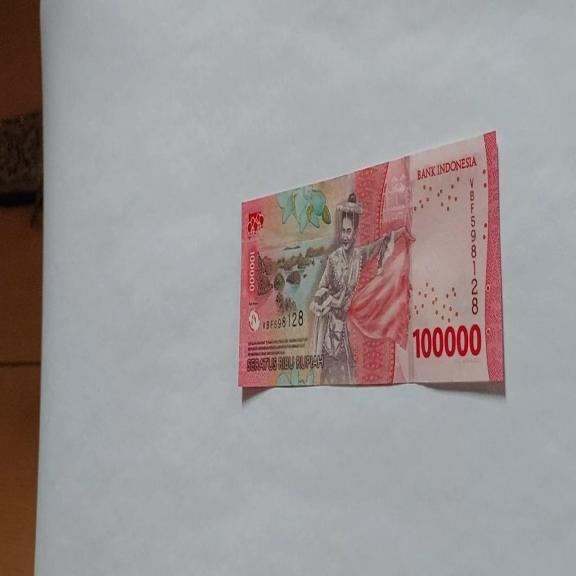Kertas: (412, 322, 482, 360)
